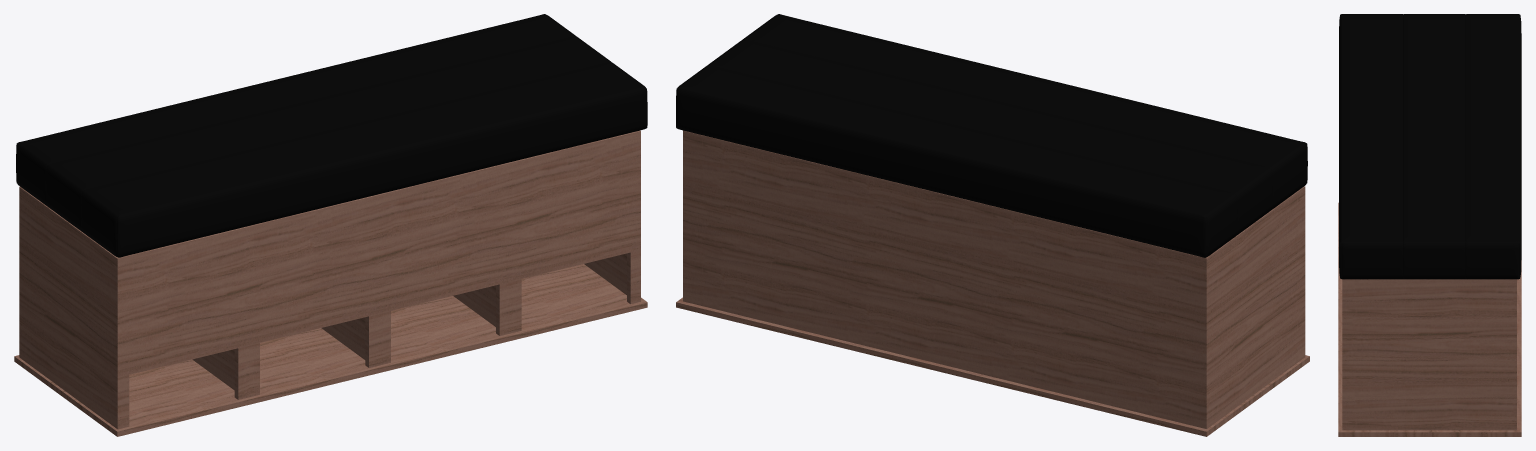
The model's file is 008_Baul_Van_Gogh.glb.
3 renders of one model, left to right at view 1: azimuth 30°, elevation 25°; view 2: azimuth 150°, elevation 25°; view 3: azimuth 270°, elevation 25°, orthographic. The views are drawn at different scales.
Visible parts, largest first — view 1: Box003.001; view 2: Box003.001; view 3: Box003.001.
Part boxes in pixels (x1,y1,x2,y2): Box003.001: (14,14,647,436); Box003.001: (676,14,1309,436); Box003.001: (1338,14,1521,436).
Bounding box in the file's own units: 1.41 × 0.5541 × 0.4719.
2 materials, 1 textured.
